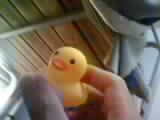duck: (38, 40, 97, 103)
